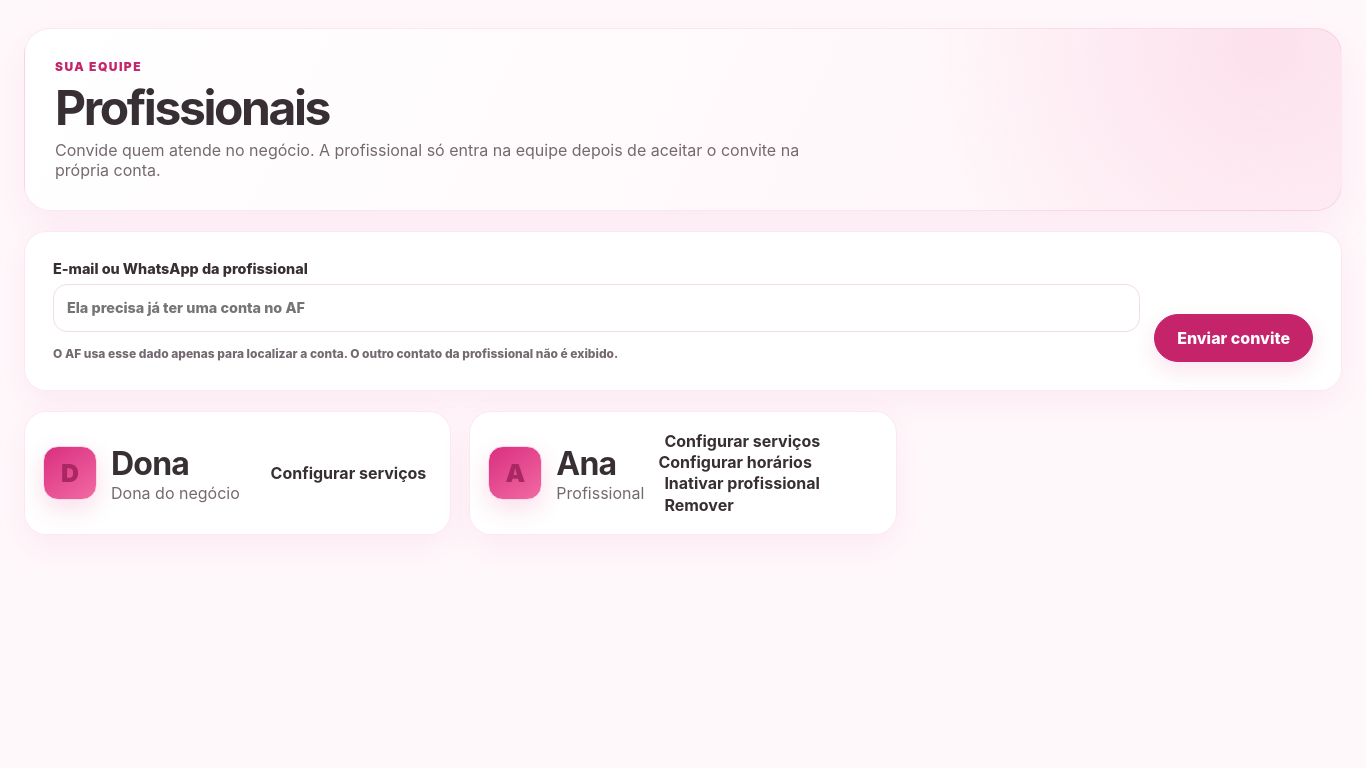
Scenario: inativação manual › resultado incerto fecha o diálogo e exige GET antes de repetir
The image size is (1366, 768).
Click the button "Inativar profissional" at (742, 483), box 658,472 -> 826,494
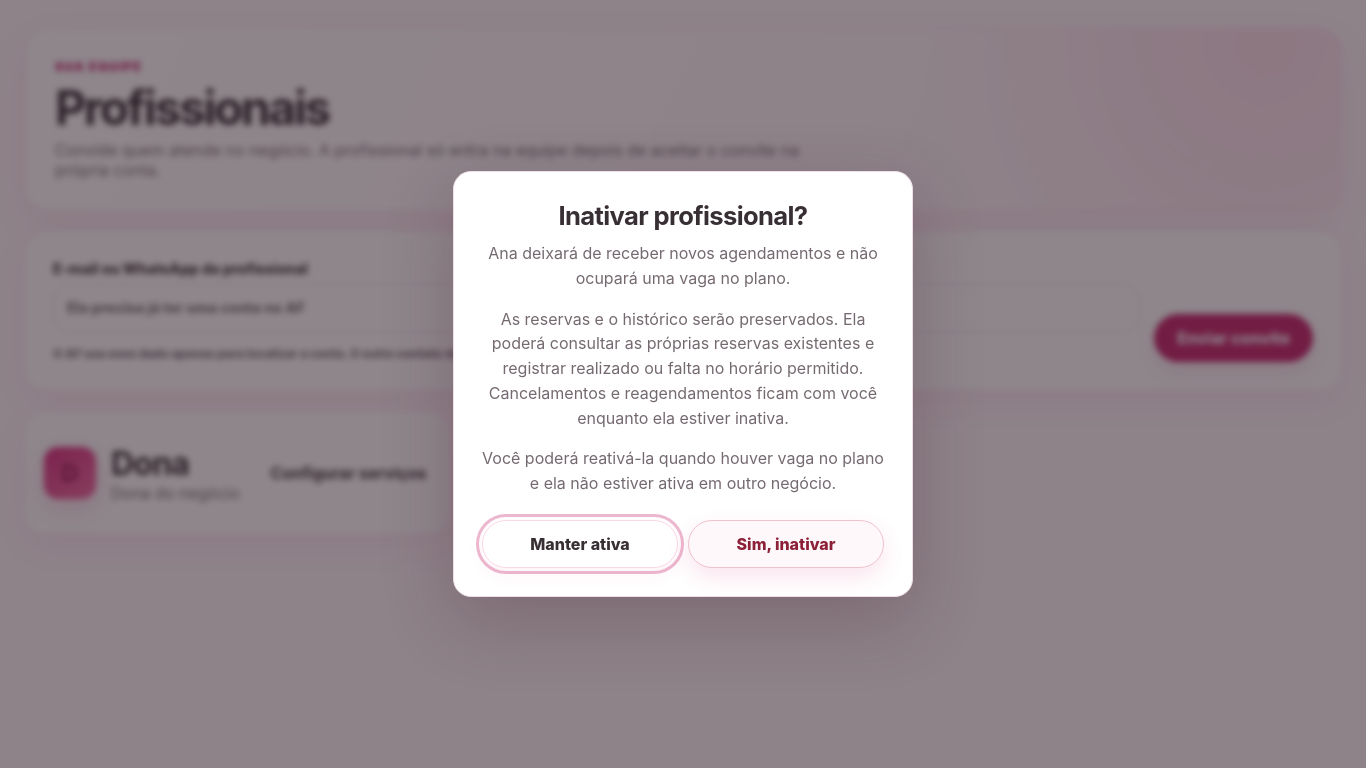
Click the button "Sim, inativar" at (786, 544), box 688,520 -> 884,568
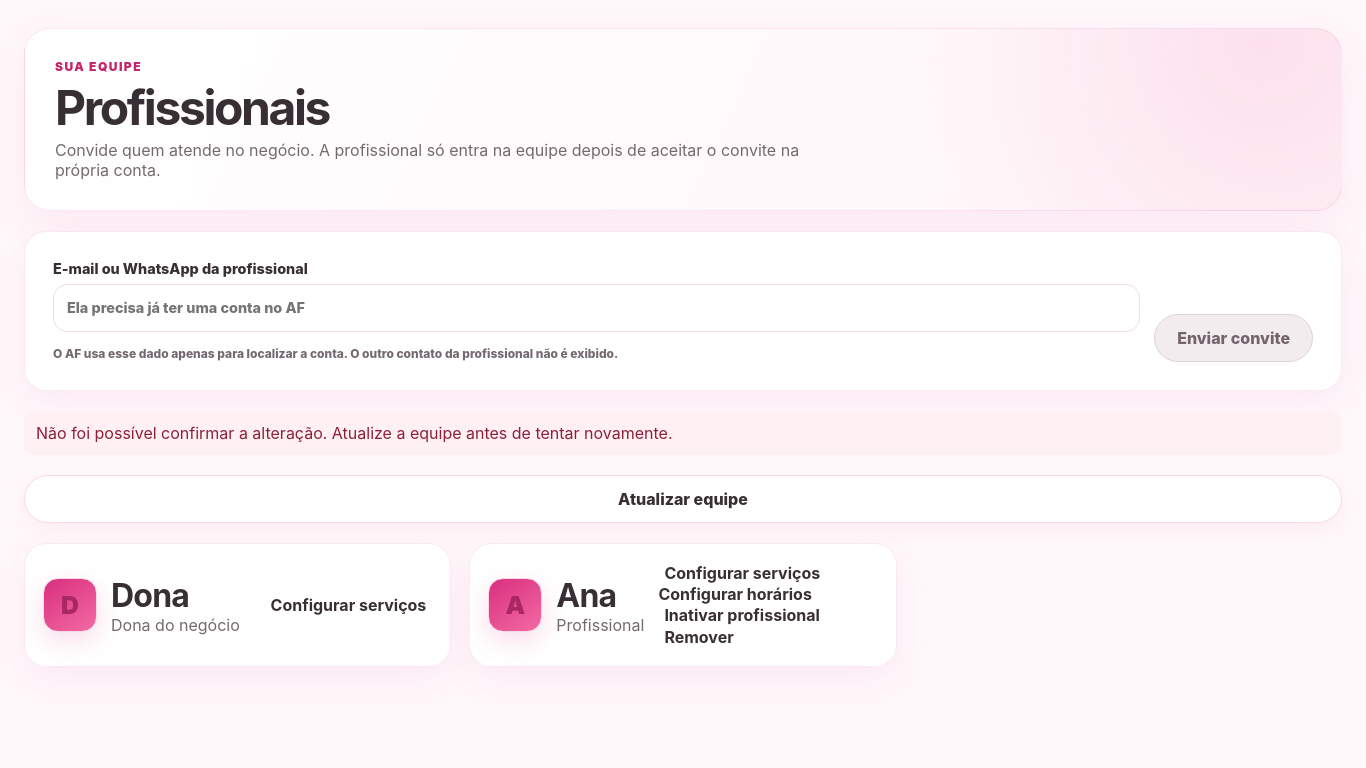
expect the text "Não foi possível confirmar" is shown: met, box 36,423 -> 672,443
expect the dialog is gone: met
expect the button "Inativar profissional" is disabled: met, box 658,604 -> 826,626
Click the button "Atualizar equipe" at (683, 499), box 24,475 -> 1342,523
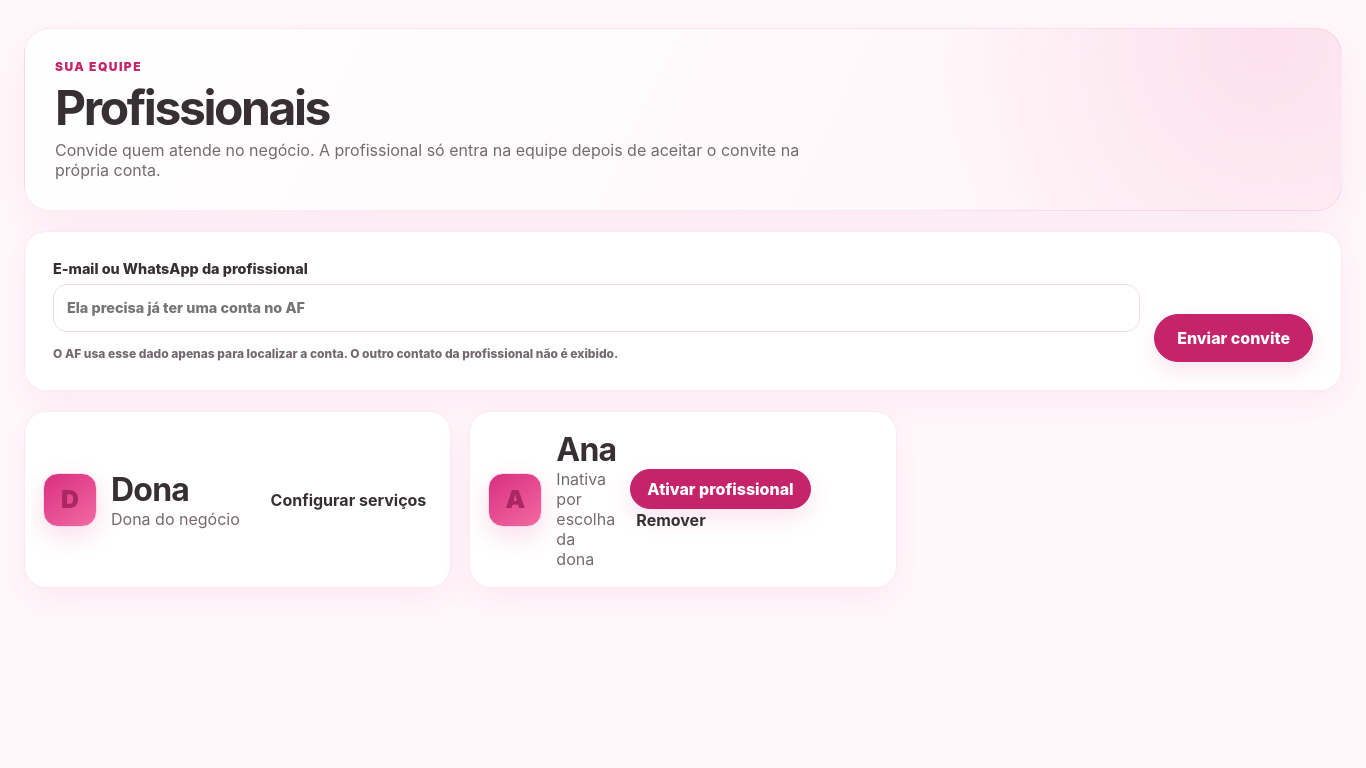
expect the text "Inativa por escolha da dona" is shown: met, box 556,469 -> 616,569
